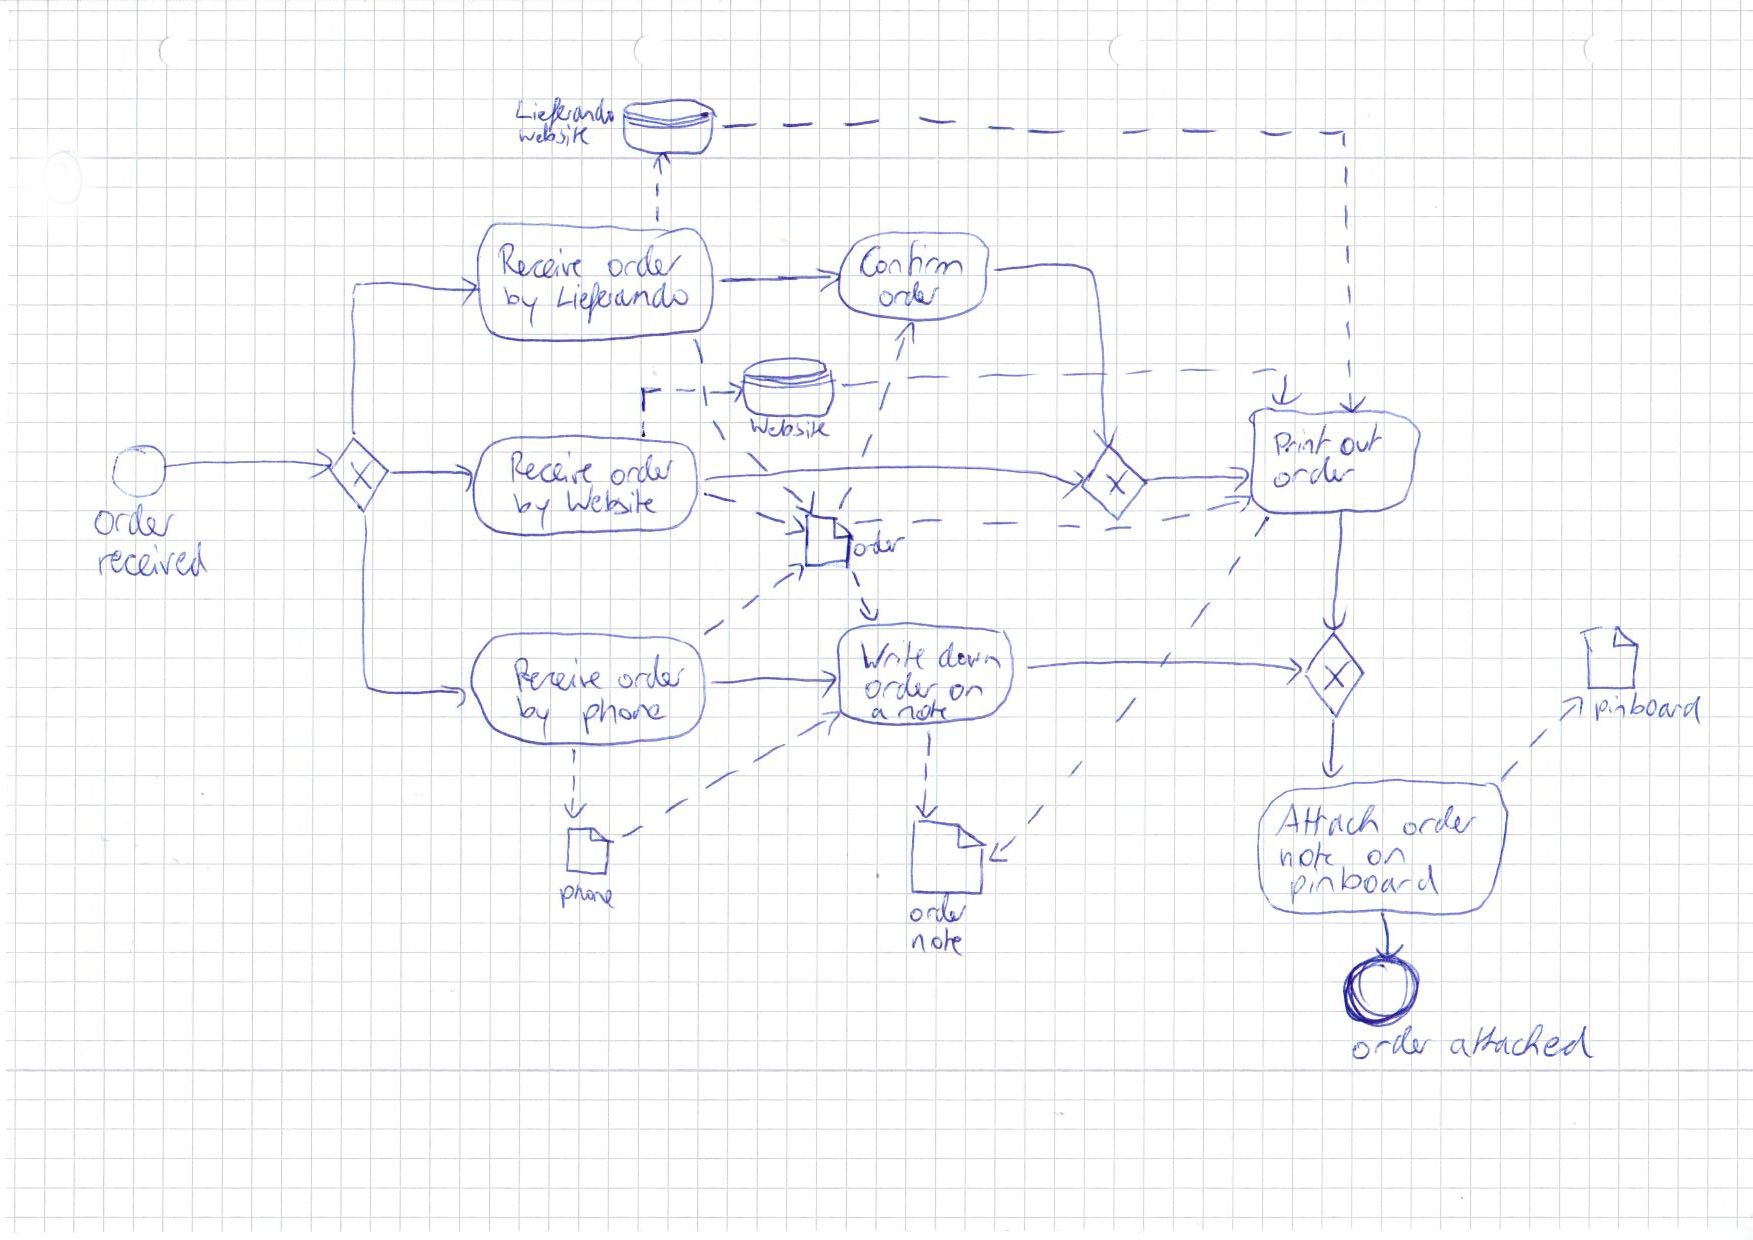Attach: (1272, 798, 1387, 836)
Confirm: (856, 236, 966, 278)
Lieferando: (553, 278, 693, 322), (511, 97, 619, 127)
Print: (1271, 421, 1333, 462)
Receive: (497, 243, 588, 282), (510, 658, 608, 692), (507, 450, 599, 484)
Website: (562, 484, 660, 517), (745, 416, 831, 442)
Write: (858, 637, 932, 671)
a: (864, 705, 897, 726)
attached: (1448, 1021, 1593, 1062)
by: (514, 691, 556, 738), (511, 490, 556, 533), (501, 280, 544, 325)
down: (936, 641, 1005, 675)
note: (1275, 844, 1340, 871), (907, 929, 966, 955), (893, 696, 954, 721)
on: (1362, 840, 1411, 868), (949, 676, 991, 705)
order: (1349, 1024, 1438, 1063), (93, 502, 181, 538), (615, 651, 689, 694), (1399, 803, 1483, 839), (1268, 456, 1356, 490), (605, 243, 686, 278), (609, 454, 679, 488), (860, 672, 944, 701), (848, 527, 911, 560), (906, 895, 972, 926), (874, 282, 944, 310)
out: (1337, 424, 1383, 459)
phone: (579, 694, 666, 734), (554, 882, 620, 913)
pinboard: (1286, 866, 1442, 910), (1587, 688, 1706, 725)
received: (93, 538, 212, 580)
website: (513, 123, 593, 149)
